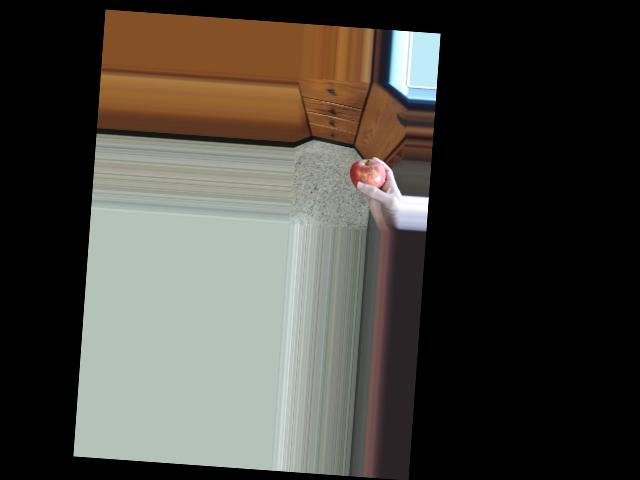apple: (348, 155, 391, 198)
